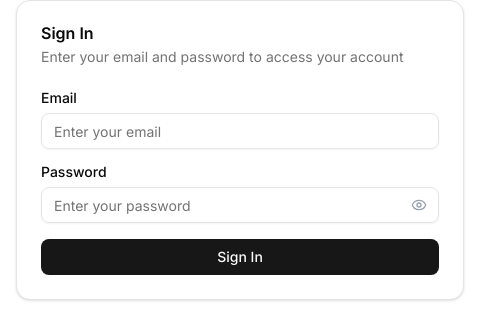
it: LoginForm › should show loading state during submission
Type "test@example.com" into the field labelled "Email".
click(240, 131); type("test@example.com")  # box top-left (41, 113), bottom-right (439, 149)
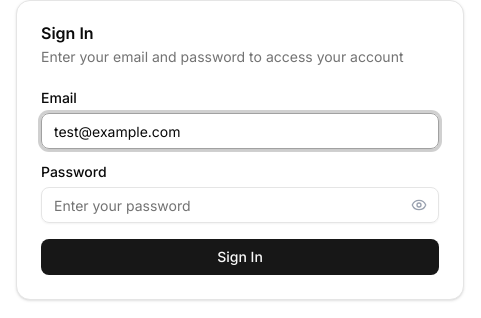
Type "password123" into the password field labelled "Password".
click(240, 205); type("password123")  # box top-left (41, 187), bottom-right (439, 223)
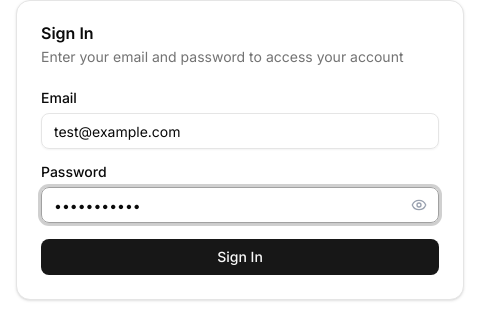
Click the button "Sign In".
click(240, 257)  # box top-left (41, 239), bottom-right (439, 275)
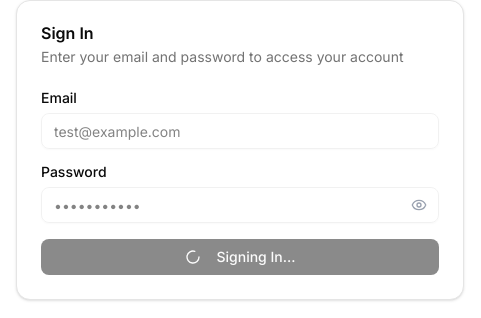
Expected: the button "Signing In..." is disabled, top-left (41, 239), bottom-right (439, 275)
